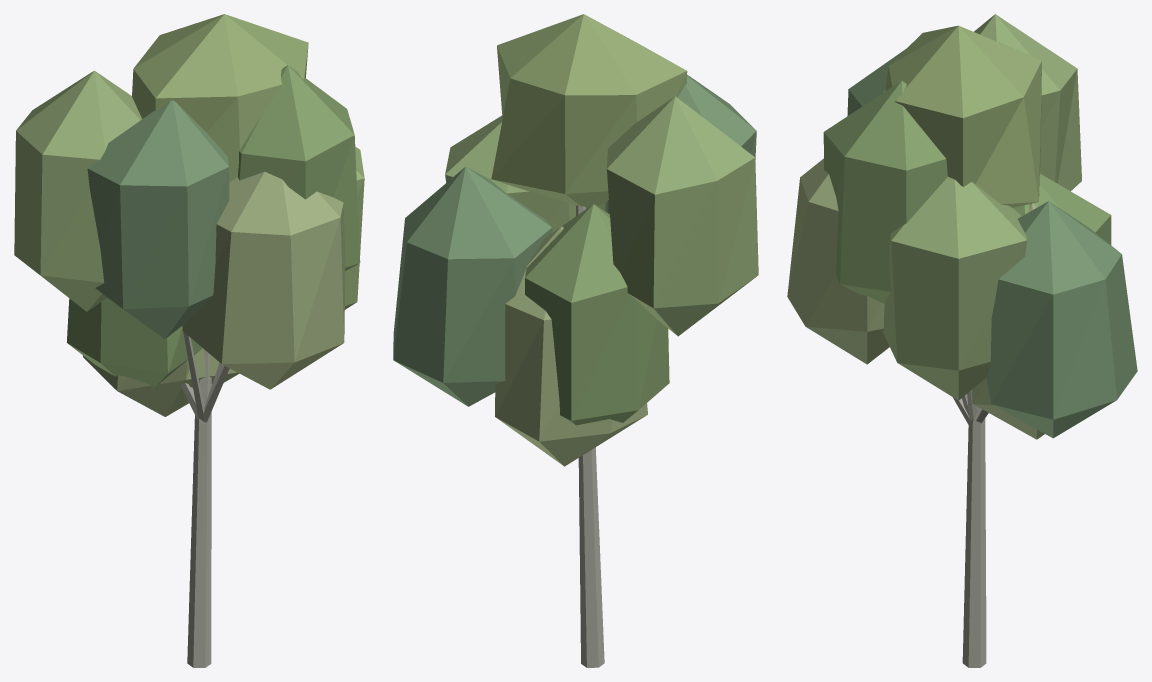
The picture shows the model from 3 angles, left to right: view 1: azimuth 30°, elevation 25°; view 2: azimuth 150°, elevation 25°; view 3: azimuth 270°, elevation 25°; orthographic projection.
Size of the model in its own units: 8.18 by 15.56 by 7.64.
